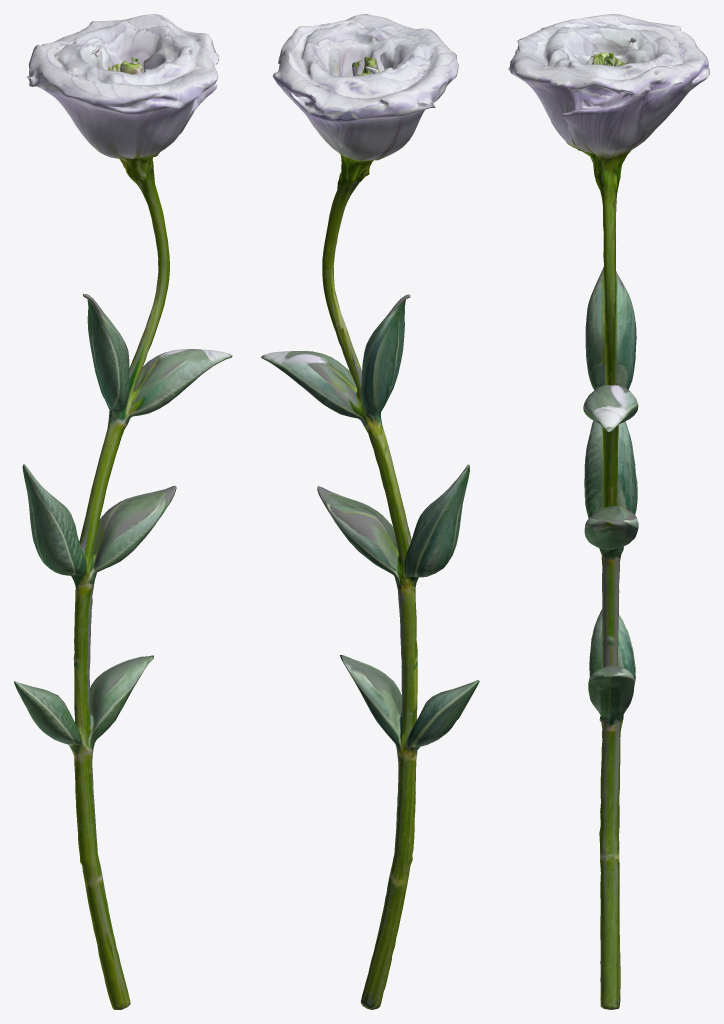
File: Lavender Flower Stem.glb
3 renders of one model, left to right at view 1: azimuth 30°, elevation 25°; view 2: azimuth 150°, elevation 25°; view 3: azimuth 270°, elevation 25°, orthographic.
Visible parts, largest first — view 1: texture_mapping; view 2: texture_mapping; view 3: texture_mapping.
Part boxes in pixels (x1=…): texture_mapping: x1=14, y1=14, x2=232, y2=1009; texture_mapping: x1=261, y1=14, x2=479, y2=1009; texture_mapping: x1=508, y1=14, x2=709, y2=1009.
Size of the model in its own units: 0.2384 by 1 by 0.1881.
1 material, 1 textured.
